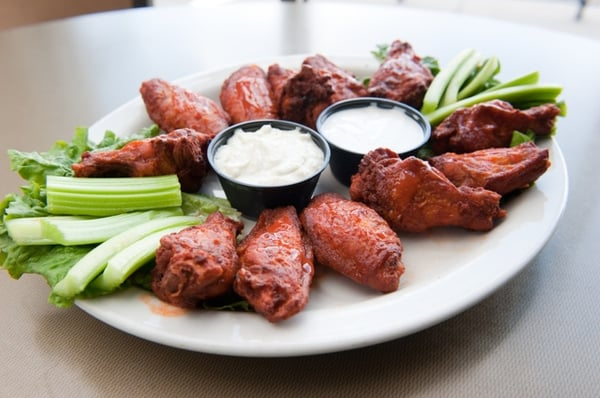sushi: (207, 118, 330, 217), (315, 96, 432, 186)
